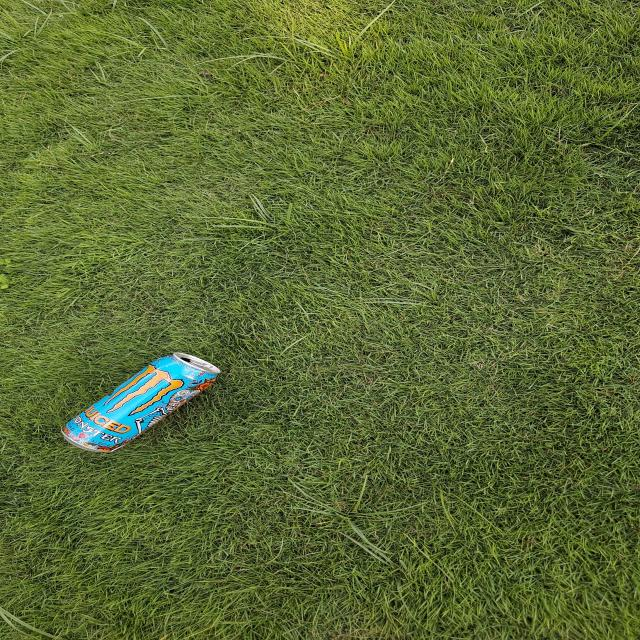Monster Mango Loco: (56, 350, 226, 453)
